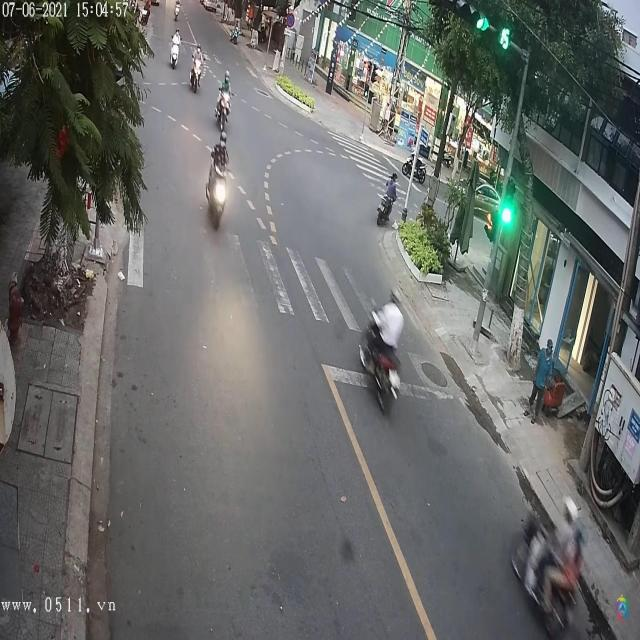motorcycle: (356, 304, 400, 411), (204, 147, 228, 231), (215, 82, 233, 129), (188, 54, 204, 98), (376, 196, 394, 224), (169, 34, 180, 69)
